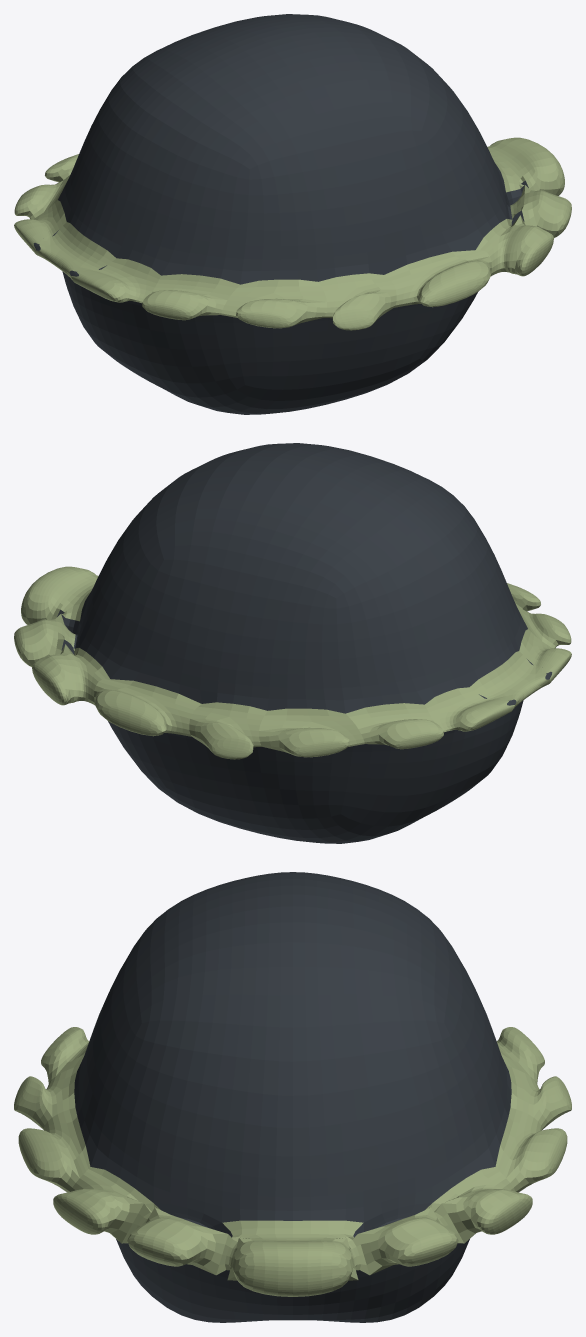
Rendered from Iwaroid.gltf.
3 views of the same model, one above another, from view 1: azimuth 30°, elevation 25°; view 2: azimuth 150°, elevation 25°; view 3: azimuth 270°, elevation 25° (orthographic). The views are drawn at different scales.
Visible parts, largest first — view 1: Cube; view 2: Cube; view 3: Cube.
Part boxes in pixels (left/top/right/bottom): Cube: left=14, top=14, right=571, bottom=414; Cube: left=14, top=443, right=571, bottom=843; Cube: left=14, top=872, right=571, bottom=1322.
Bounding box in the file's own units: 4.29 × 2.75 × 3.64.
